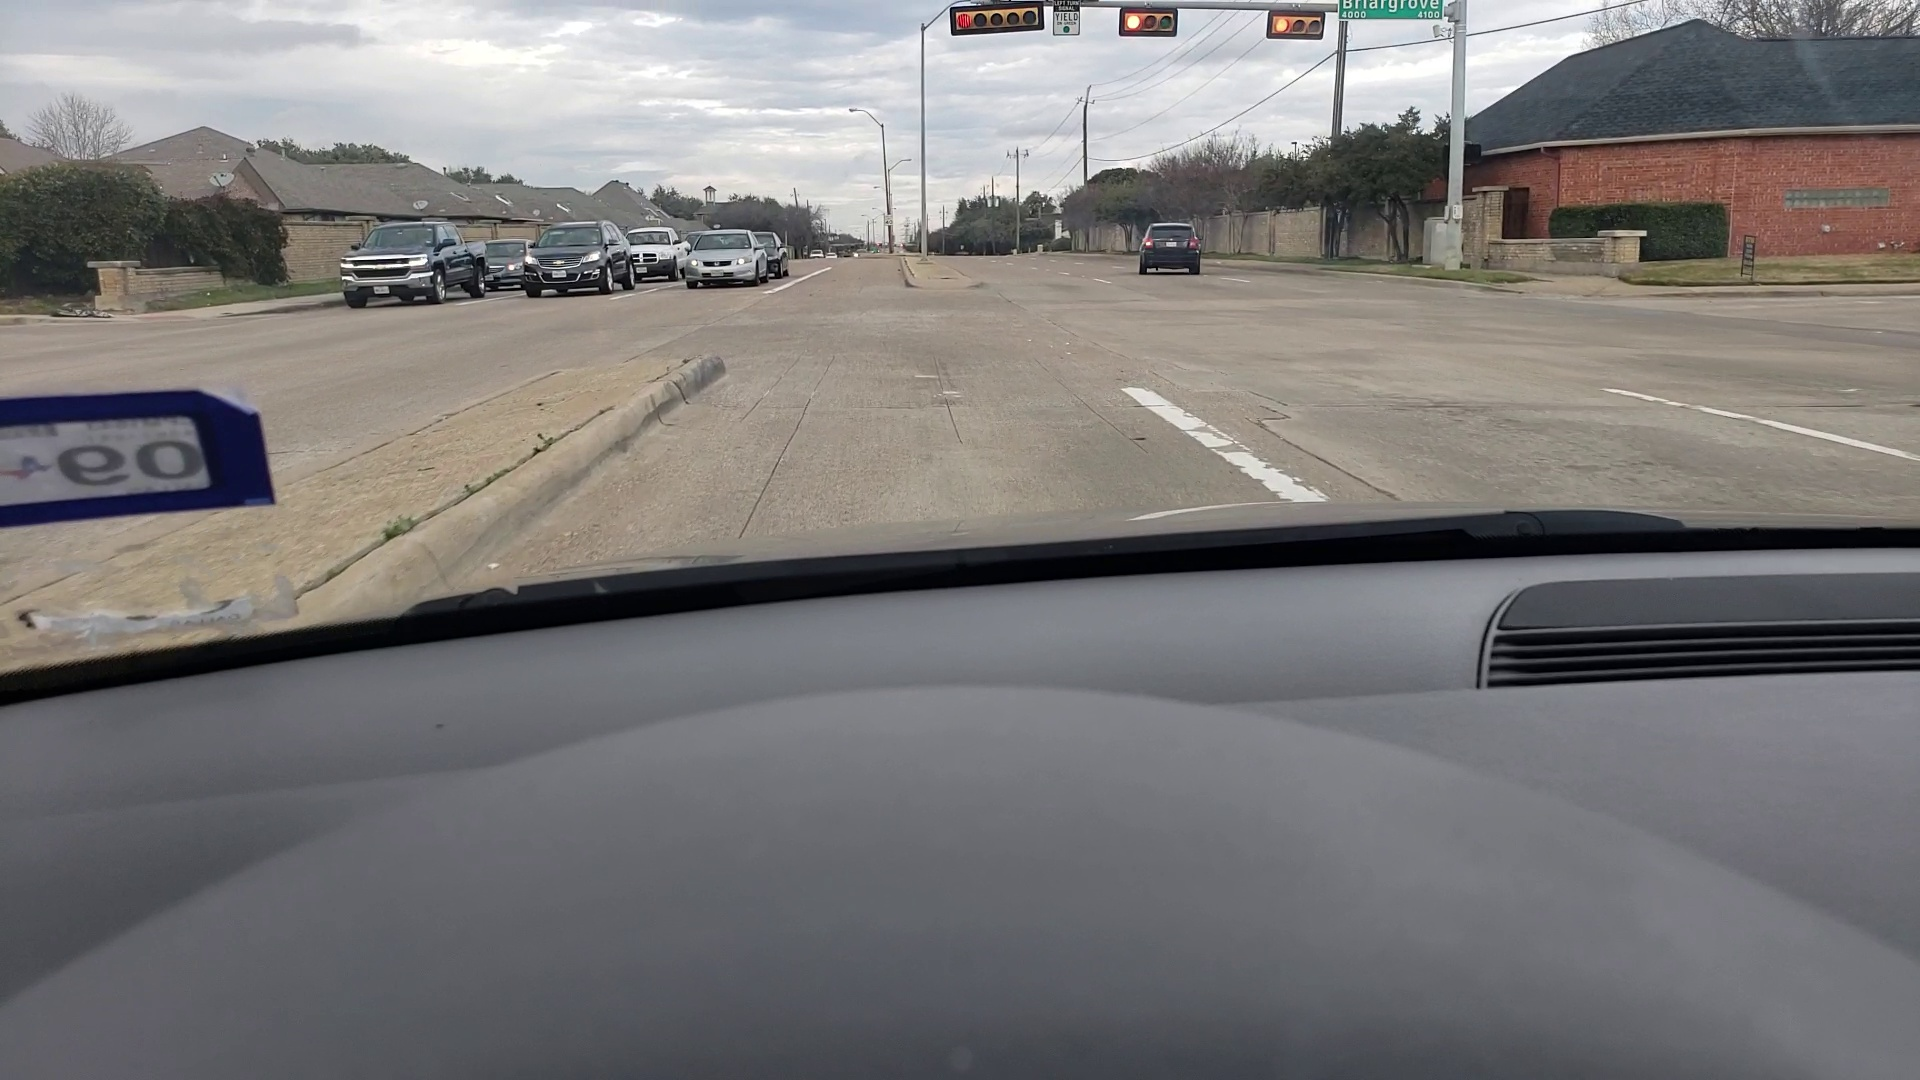car: (521, 220, 636, 298), (683, 232, 765, 281), (1138, 216, 1204, 272), (477, 232, 531, 295), (754, 227, 793, 282), (808, 248, 823, 258), (825, 251, 839, 260)
traffic light: (951, 1, 1043, 34), (1265, 13, 1327, 42), (1127, 7, 1182, 36)
truck: (336, 214, 488, 307), (625, 219, 690, 282)
